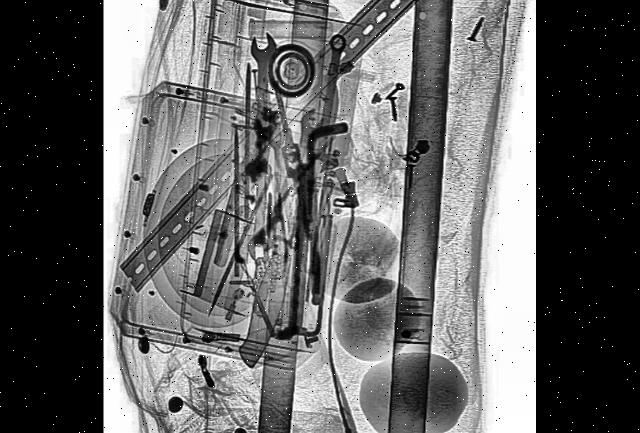Knife: (234, 60, 344, 380)
Wrench: (248, 31, 278, 264)
